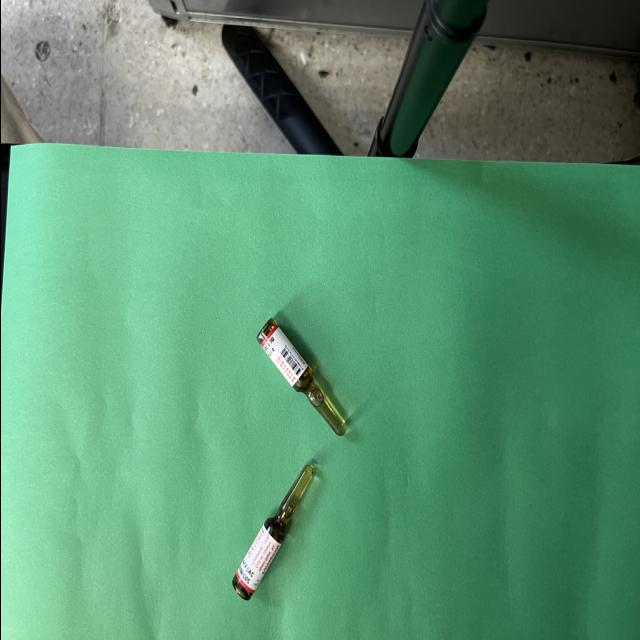Ampoules: (231, 465, 312, 601), (256, 318, 346, 437)
